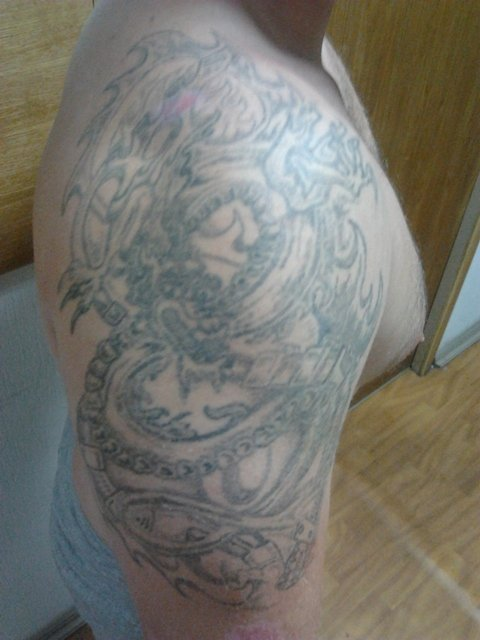tatu6_drakon: (55, 18, 389, 608)
